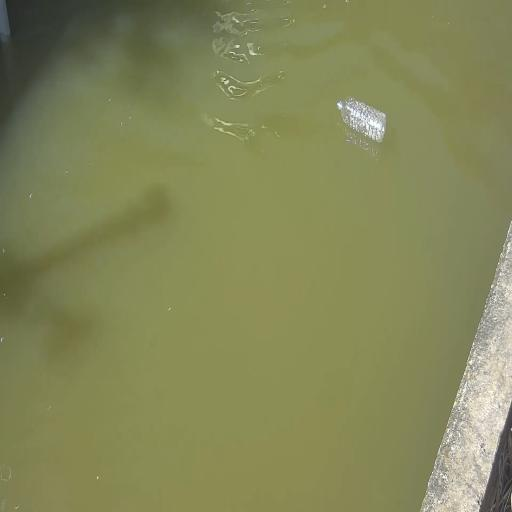plastic: (337, 95, 389, 146)
